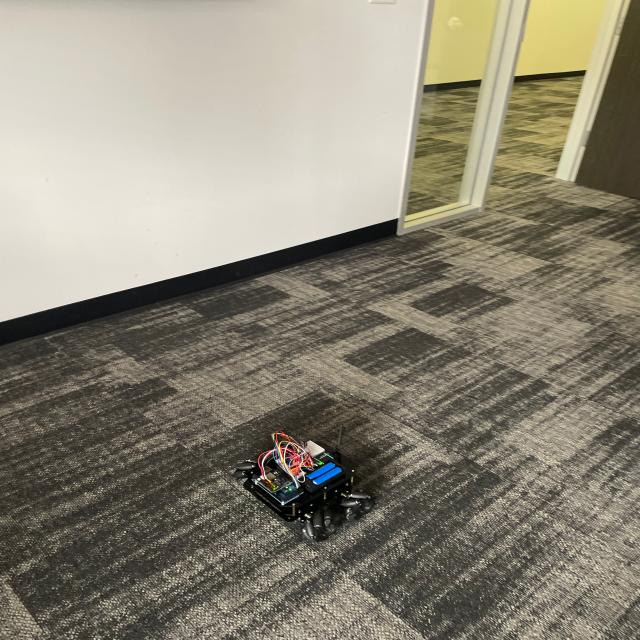ArduinoCar: (226, 424, 379, 546)
